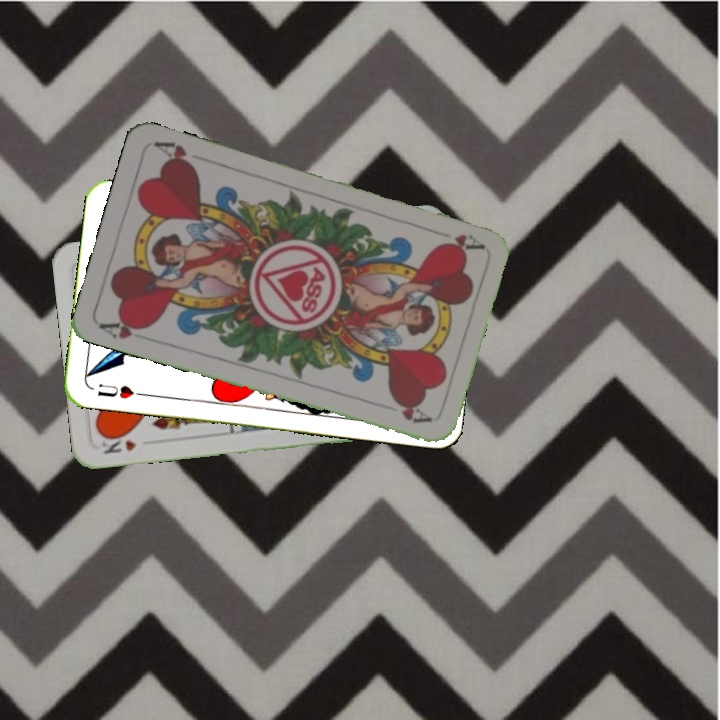HA: (95, 314, 154, 342), (427, 225, 485, 253)
HK: (98, 430, 139, 457)
HU: (94, 380, 147, 402)
